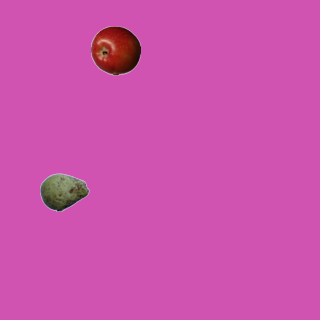Apple Braeburn: (90, 25, 140, 75)
Pear Stone: (39, 167, 89, 217)
